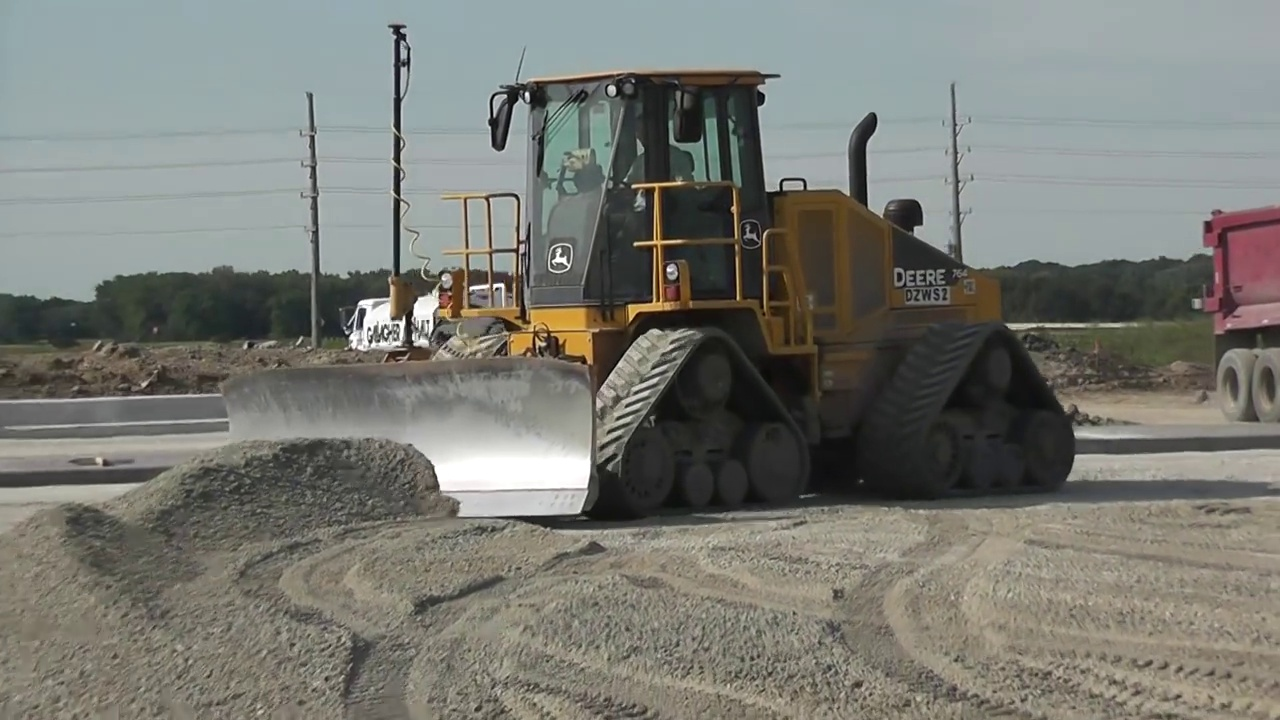bulldozer: (213, 71, 1081, 519)
truck: (1200, 198, 1280, 426), (342, 286, 507, 350)
